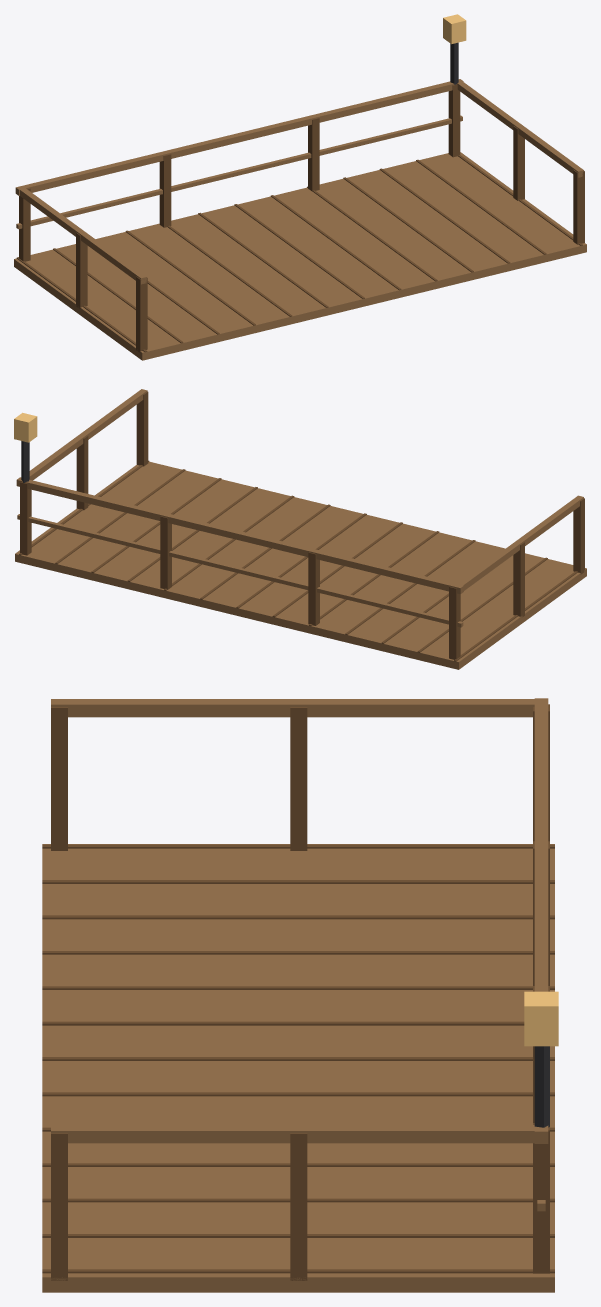
The model's file is boardwalk.gltf.
The picture shows the model from 3 angles, top to bottom: view 1: azimuth 30°, elevation 25°; view 2: azimuth 150°, elevation 25°; view 3: azimuth 270°, elevation 25°; orthographic projection. The views are drawn at different scales.
Parts seen in each view (by area): view 1: boardwalk; view 2: boardwalk; view 3: boardwalk.
Boxes of the visible parts, bbox=[...] form: boardwalk: bbox=[14, 14, 586, 360]; boardwalk: bbox=[14, 389, 586, 669]; boardwalk: bbox=[42, 698, 558, 1292].
Bounding box in the file's own units: 6 × 1.85 × 3.02.
